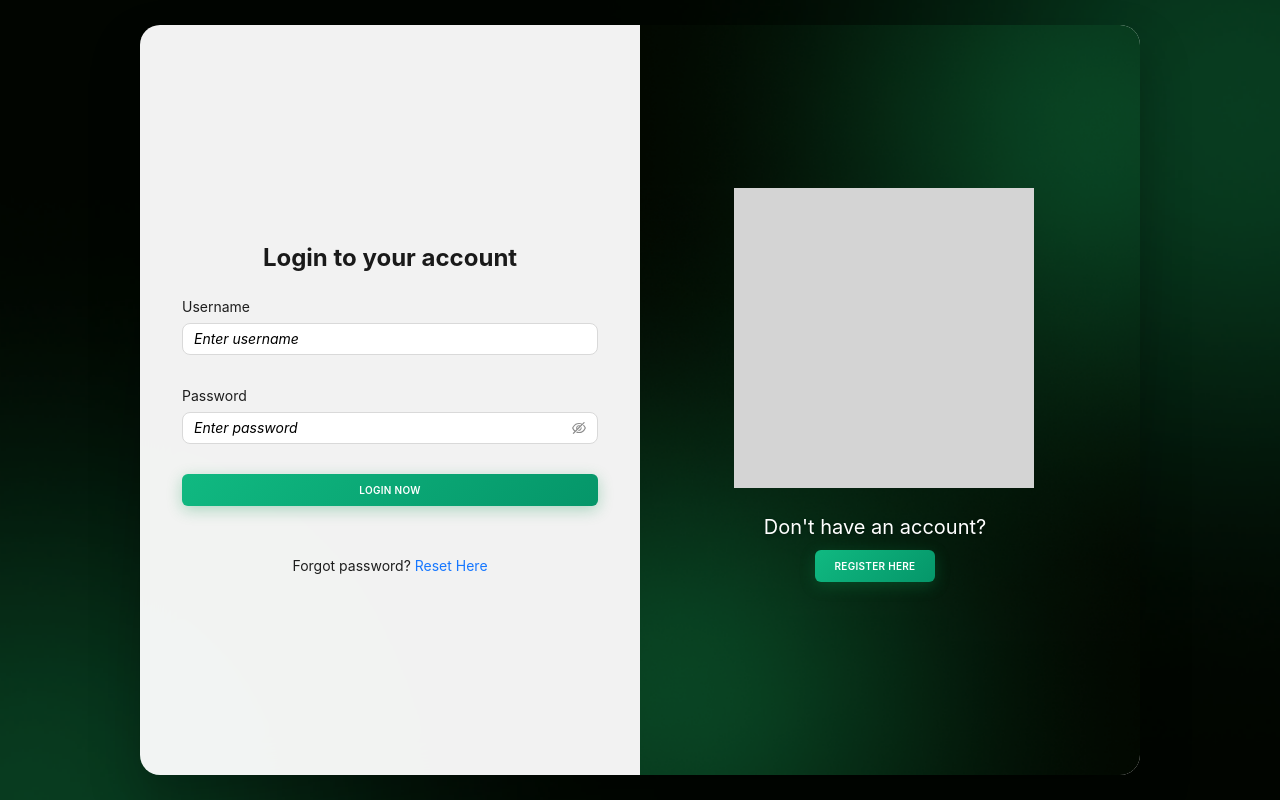
Test case: Login Component › Login Form › shows validation errors when submitting empty login form
Click the button "Login now".
click(390, 490)  # box 182,474 -> 598,506
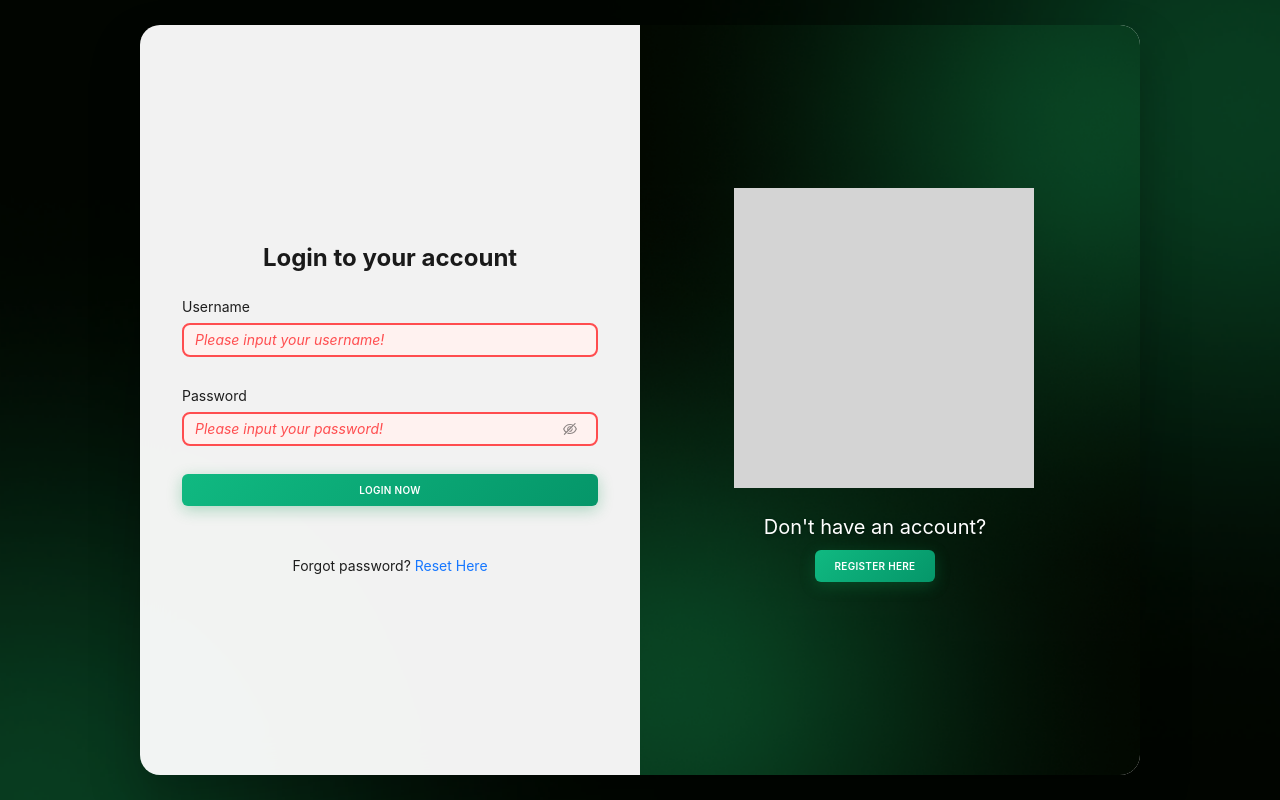
Check: the field with placeholder "Please input your username!" is shown, box 182,323 -> 598,357
Check: the password field with placeholder "Please input your password!" is shown, box 195,418 -> 545,440
